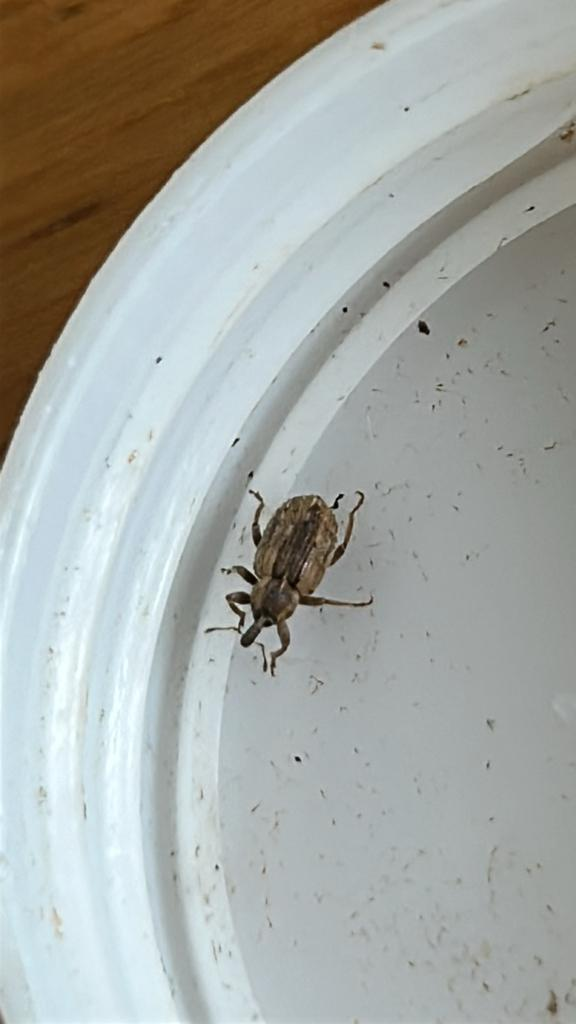weevils: (157, 444, 419, 716)
